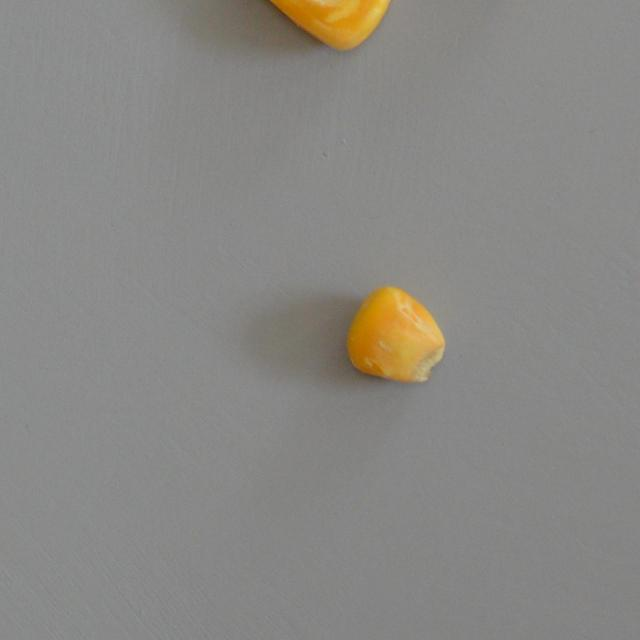no_desgerminado: (234, 0, 393, 53)
pelicula: (344, 285, 445, 384)
